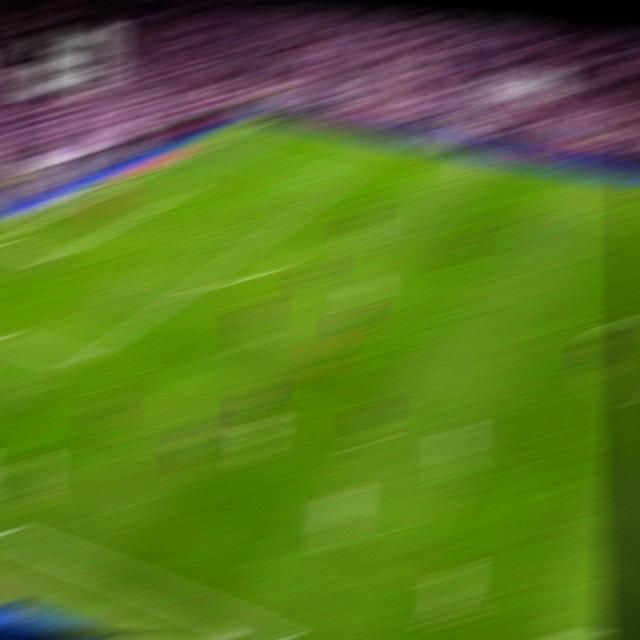bigarea_bottom_inner: (68, 353, 97, 370)
bigarea_top_inner: (330, 178, 353, 185)
bigarea_top_outter: (188, 147, 211, 152)
bottom_arc_area_intersection: (183, 276, 211, 290)
corner: (248, 119, 273, 122)
smallarea_bottom_inner: (38, 252, 65, 265)
smallarea_top_inner: (172, 187, 195, 193)
top_arc_area_intersection: (272, 216, 298, 227)
